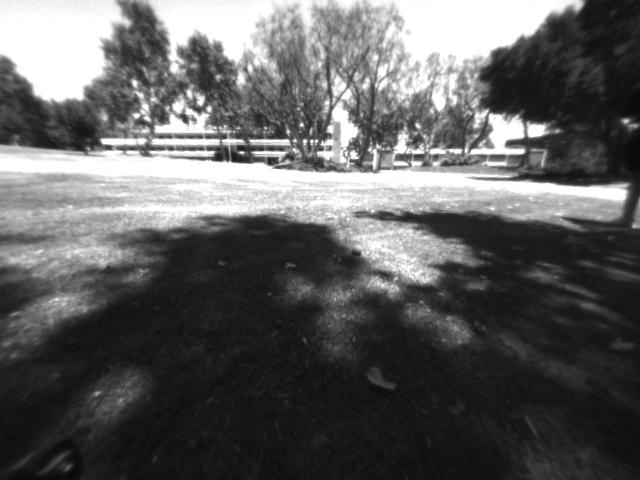dogtoy: (346, 244, 367, 260)
